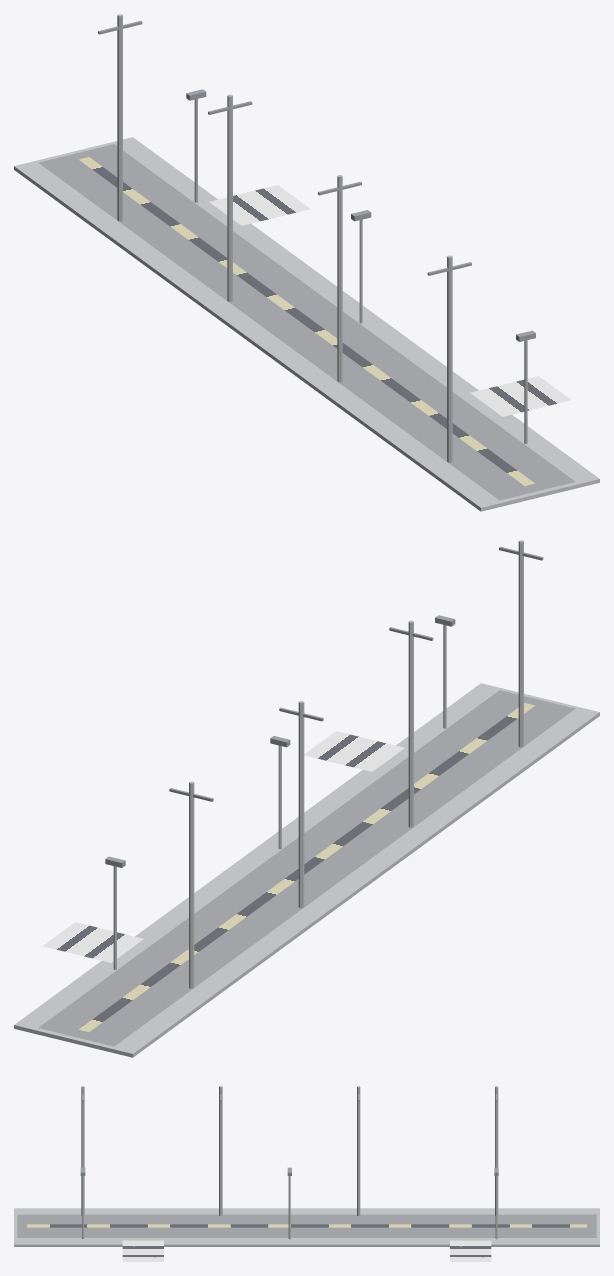
The model's file is Area_street.glb.
3 renders of one model, top to bottom at view 1: azimuth 30°, elevation 25°; view 2: azimuth 150°, elevation 25°; view 3: azimuth 270°, elevation 25°, orthographic. The views are drawn at different scales.
Parts seen in each view (by area): view 1: road_street, platform.001, dash_street, cwx_street_0, cwx_street_1, pole0, pole1, pole2, pole3; view 2: road_street, platform.001, dash_street, cwx_street_0, cwx_street_1, pole2, pole1, pole0, pole3; view 3: road_street, platform.001, dash_street, cwx_street_0, cwx_street_1, pole1, pole2, pole3, pole0.
Part boxes in pixels (bbox=[...]): road_street: bbox=[38, 144, 575, 500]; platform.001: bbox=[14, 137, 599, 511]; dash_street: bbox=[78, 157, 534, 485]; cwx_street_0: bbox=[470, 376, 571, 416]; cwx_street_1: bbox=[209, 185, 310, 225]; pole0: bbox=[447, 255, 452, 462]; pole1: bbox=[337, 175, 342, 382]; pole2: bbox=[227, 94, 232, 301]; pole3: bbox=[117, 14, 122, 221]; road_street: bbox=[38, 690, 575, 1046]; platform.001: bbox=[14, 683, 599, 1057]; dash_street: bbox=[79, 703, 535, 1032]; cwx_street_0: bbox=[304, 731, 404, 771]; cwx_street_1: bbox=[42, 922, 143, 962]; pole2: bbox=[298, 701, 304, 908]; pole1: bbox=[408, 620, 413, 827]; pole0: bbox=[518, 540, 523, 747]; pole3: bbox=[189, 781, 194, 988]; road_street: bbox=[17, 1214, 596, 1237]; platform.001: bbox=[14, 1208, 599, 1246]; dash_street: bbox=[27, 1224, 586, 1227]; cwx_street_0: bbox=[122, 1240, 163, 1261]; cwx_street_1: bbox=[450, 1240, 491, 1261]; pole1: bbox=[219, 1086, 222, 1215]; pole2: bbox=[357, 1086, 360, 1215]; pole3: bbox=[495, 1086, 498, 1215]; pole0: bbox=[81, 1086, 84, 1215].
Size of the model in its own units: 7.45 by 8.4 by 34.
Materials: 6 (2 with a texture image).
